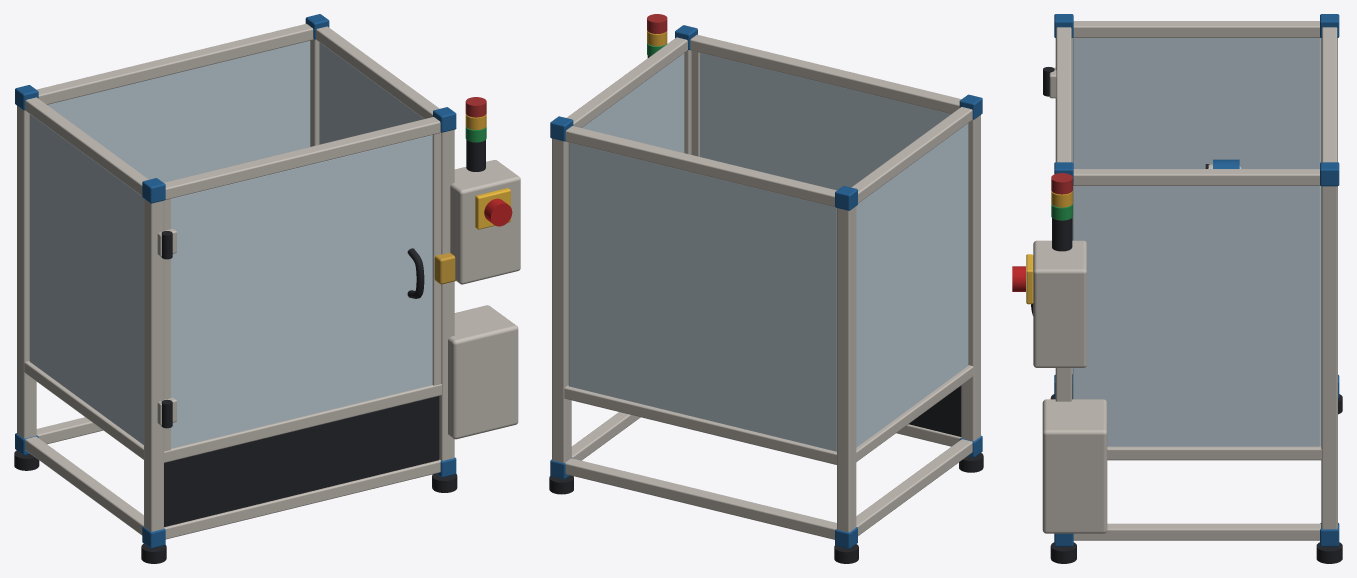
The model's file is anatomy-49.glb.
3 renders of one model, left to right at view 1: azimuth 30°, elevation 25°; view 2: azimuth 150°, elevation 25°; view 3: azimuth 270°, elevation 25°, orthographic. The views are drawn at different scales.
Visible parts, largest first — view 1: panels, door, frame, cabinet, beacon, stop, hinges, interlock; view 2: panels, frame, door, beacon; view 3: panels, frame, cabinet, beacon, stop, hinges.
Boxes of the visible parts, bbox=[...] form: panels: bbox=[29, 41, 439, 526]; door: bbox=[164, 133, 441, 451]; frame: bbox=[14, 14, 457, 563]; cabinet: bbox=[448, 160, 520, 439]; beacon: bbox=[465, 97, 486, 171]; stop: bbox=[475, 188, 512, 229]; hinges: bbox=[157, 228, 176, 428]; interlock: bbox=[434, 253, 455, 284]; panels: bbox=[568, 53, 968, 451]; frame: bbox=[549, 25, 983, 563]; door: bbox=[691, 51, 950, 190]; beacon: bbox=[647, 14, 667, 57]; panels: bbox=[1072, 38, 1321, 446]; frame: bbox=[1050, 14, 1342, 563]; cabinet: bbox=[1033, 240, 1107, 533]; beacon: bbox=[1051, 173, 1072, 251]; stop: bbox=[1012, 254, 1033, 304]; hinges: bbox=[1043, 67, 1056, 98].
Bounding box in the file's own units: 2.4 × 2.37 × 1.79.
